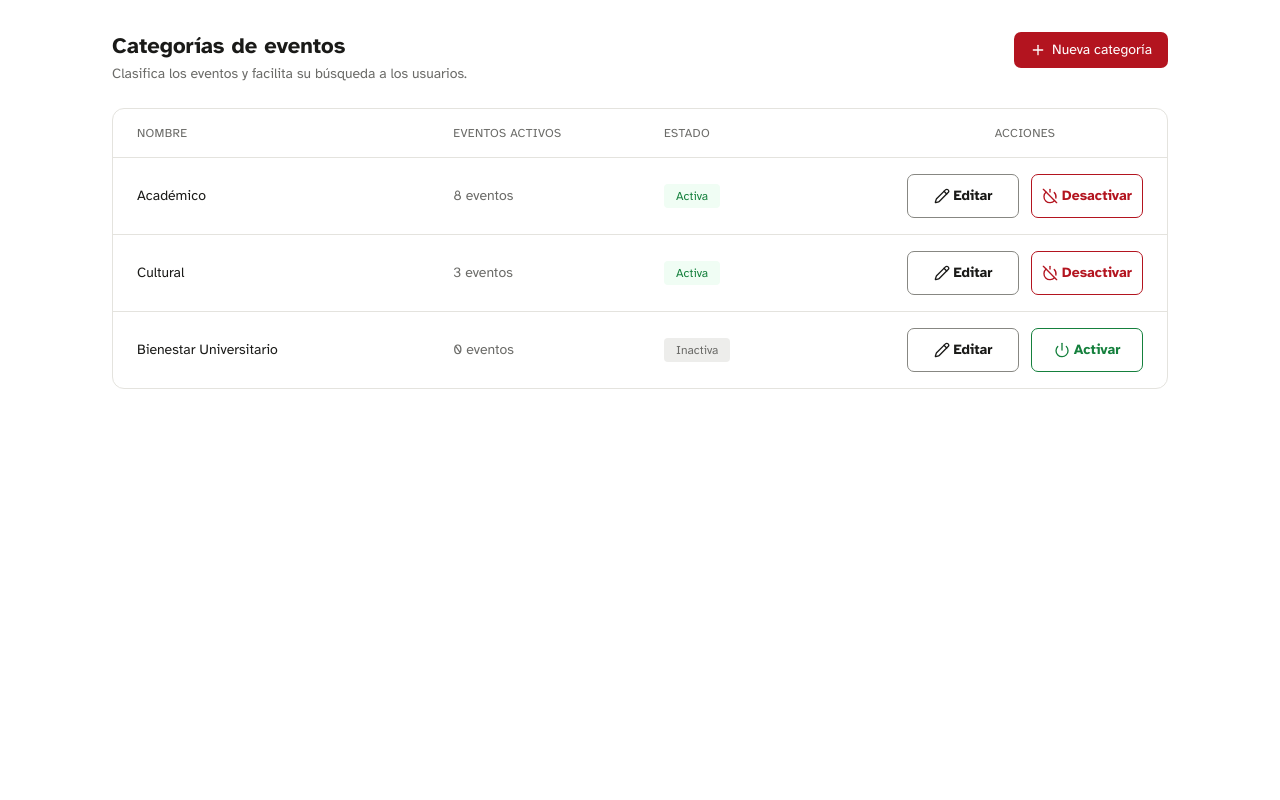
Test case: GestionCategorias (HU-04) › pide confirmación al desactivar, aclara que los eventos conservan la categoría y envía activo=false
The image size is (1280, 800).
Expected: the column heading "Cultural" is shown, [113,234,429,312]
Click the button with aria-label "Desactivar categoría Cultural" at (1087, 273), box [1031,251,1143,295]
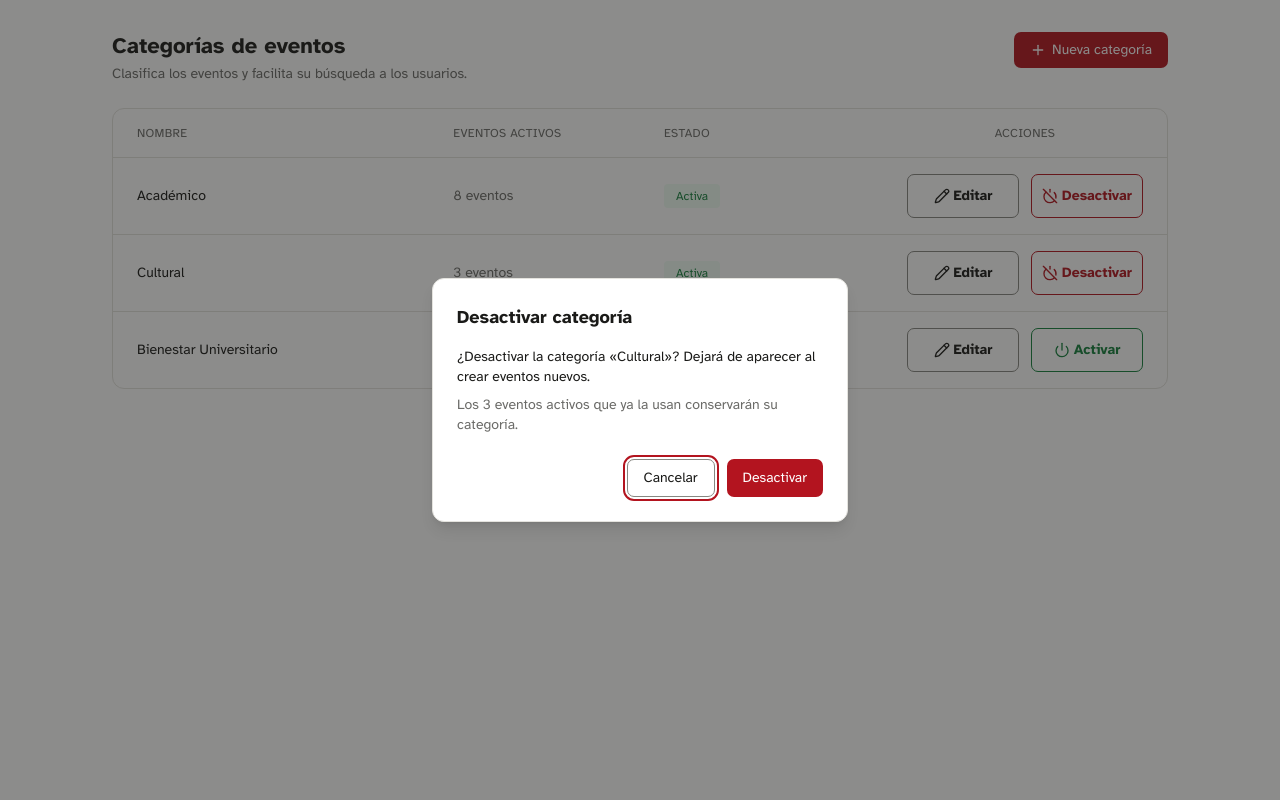
Expected: the dialog "Desactivar categoría" shows "Los 3 eventos activos que ya la usan conservarán su categoría.", [432,278,848,522]
Click the button "Desactivar" at (775, 478), box [727,459,823,497]
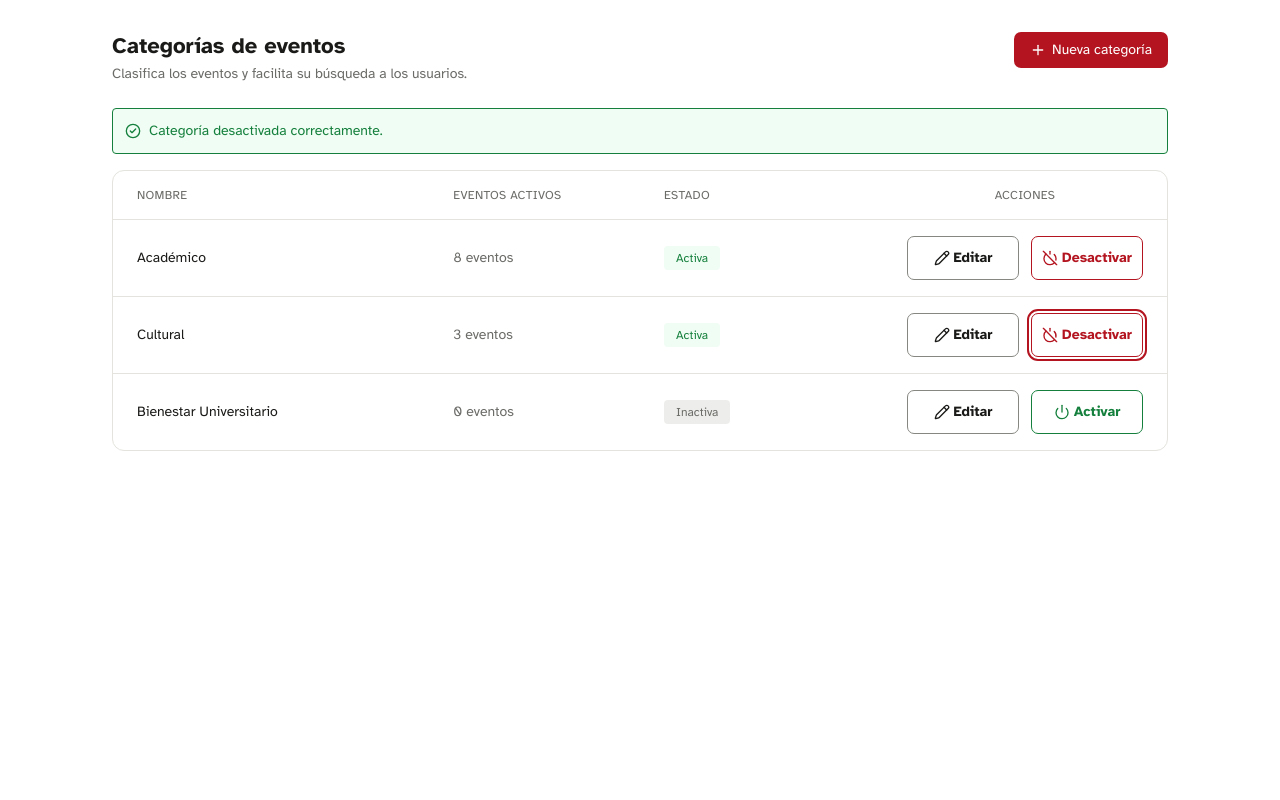
Expected: the message reads "Categoría desactivada correctamente.", [149,122,383,139]
